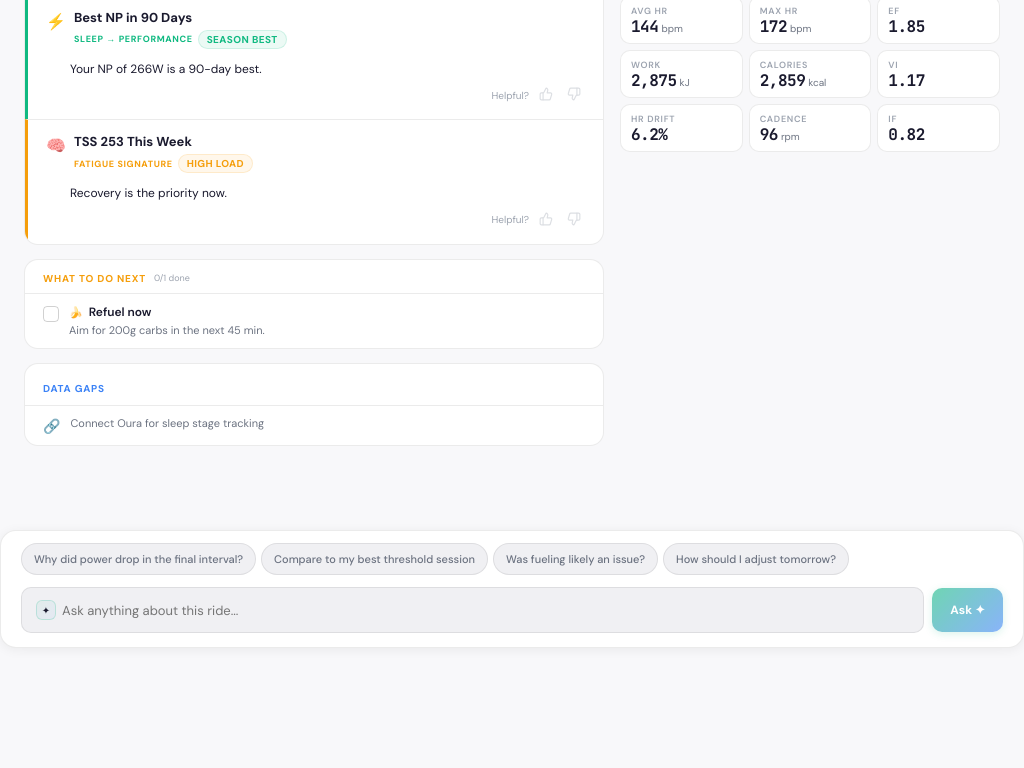
Test: ActivityDetail Page › sends chat message via input
The image size is (1024, 768).
(page scrolled)
Type "Test question" into the field with placeholder "Ask anything about this ride..." at (486, 610), box top-left (62, 598), bottom-right (909, 622)
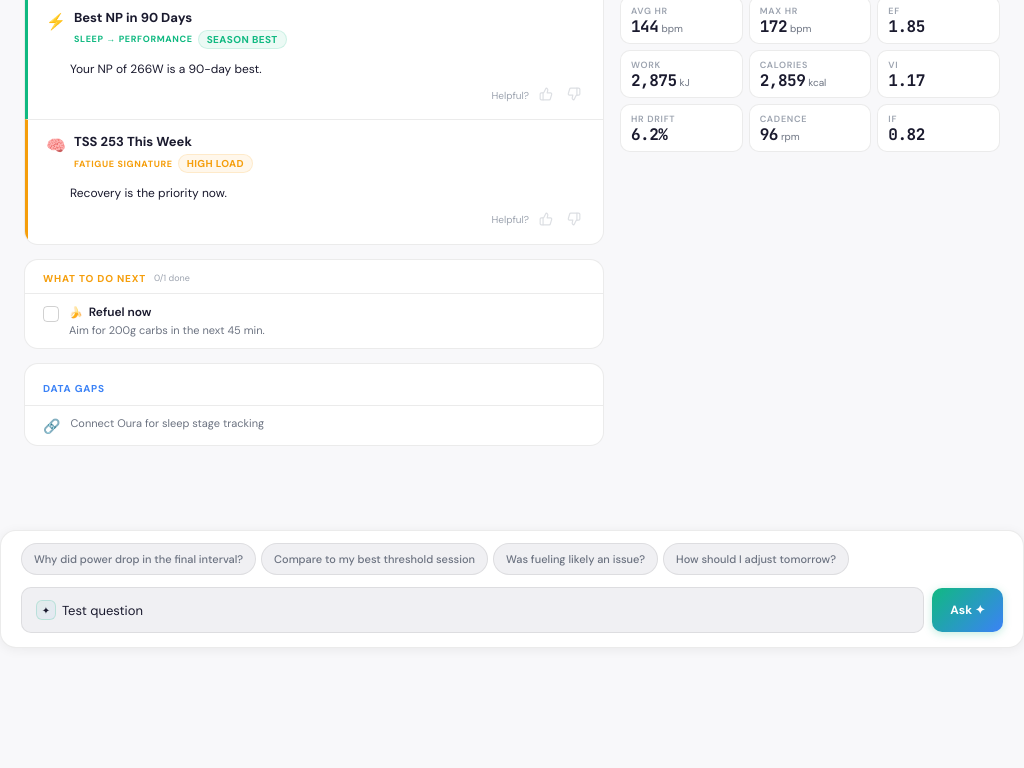
Press Enter in the field with placeholder "Ask anything about this ride...", box top-left (62, 598), bottom-right (909, 622)
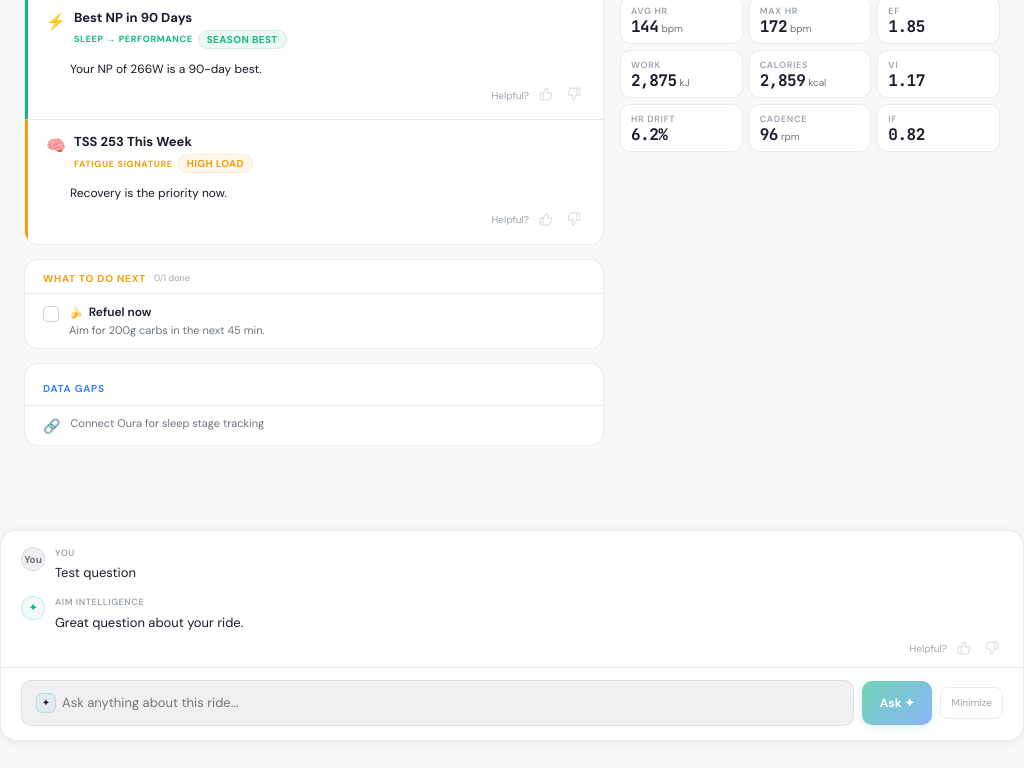
Result: the text "Test question" is shown at top-left (55, 564), bottom-right (136, 581)
